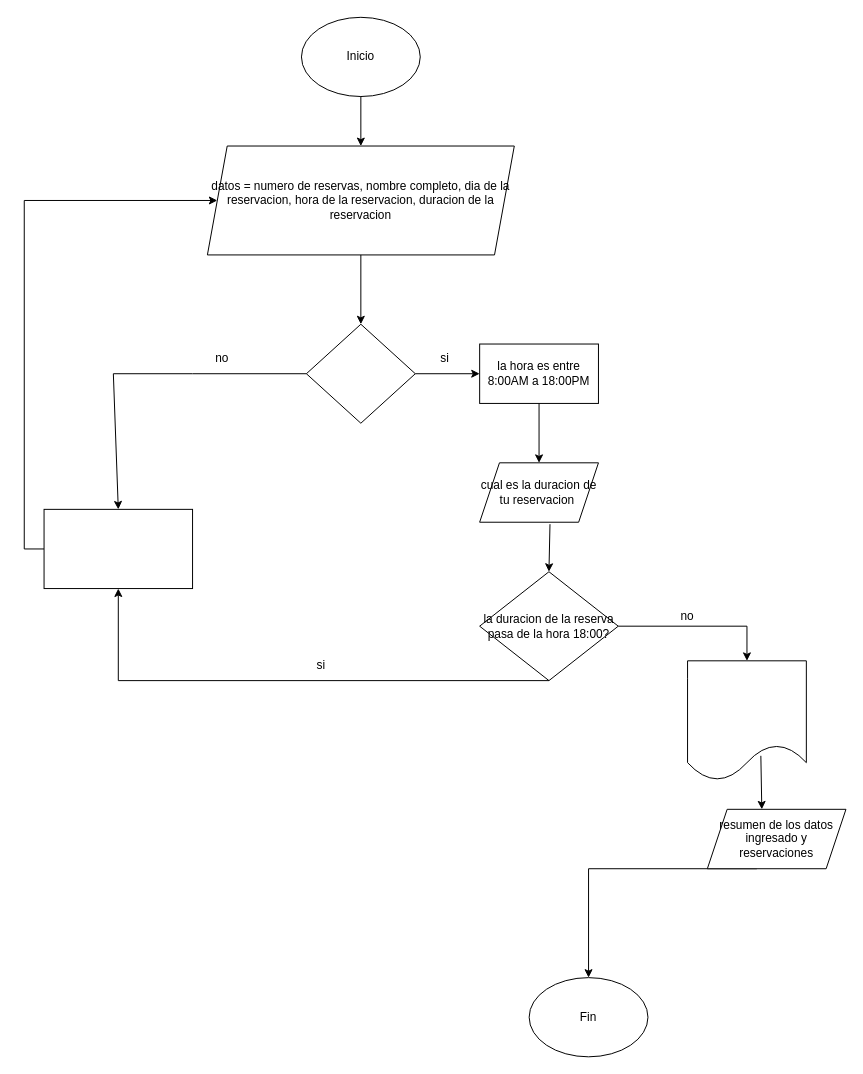
Some shapes in this 863 by 1074 pixel diagram are drawn without their labels. The shapes that lost their labels are listed below. From the top down, each one's centre as x and y in pixels, then its label:
(x=360, y=373): la hora es de 8:00 AM 18:00PM?
(x=118, y=548): error ingrese sus datos de nuevo
(x=746, y=720): numero de reservas nombre dia de la reservacion hora de la reservacion
